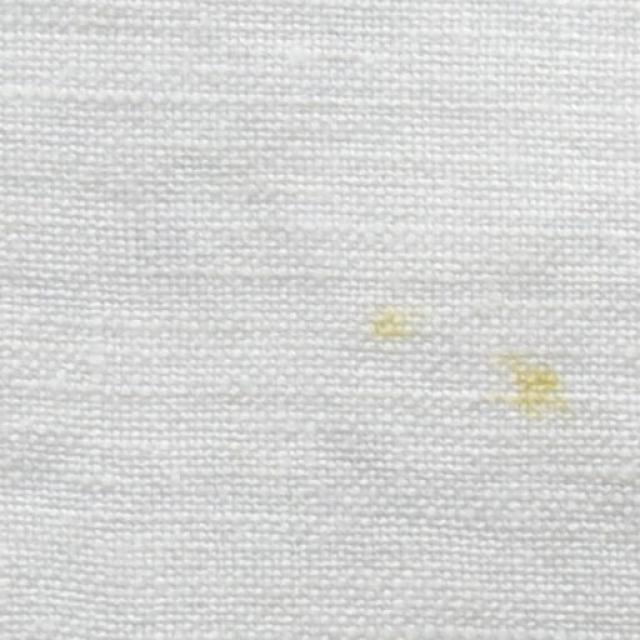Stain: (496, 355, 570, 420), (370, 309, 432, 341)
